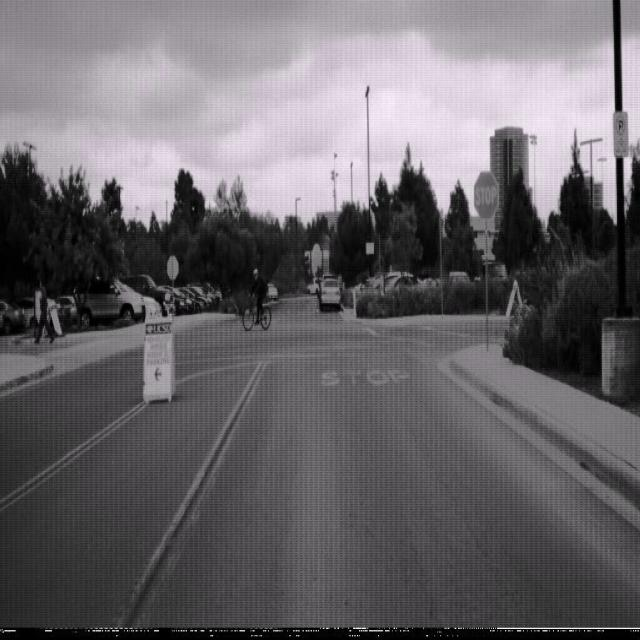stop_sign: (472, 169, 498, 222)
